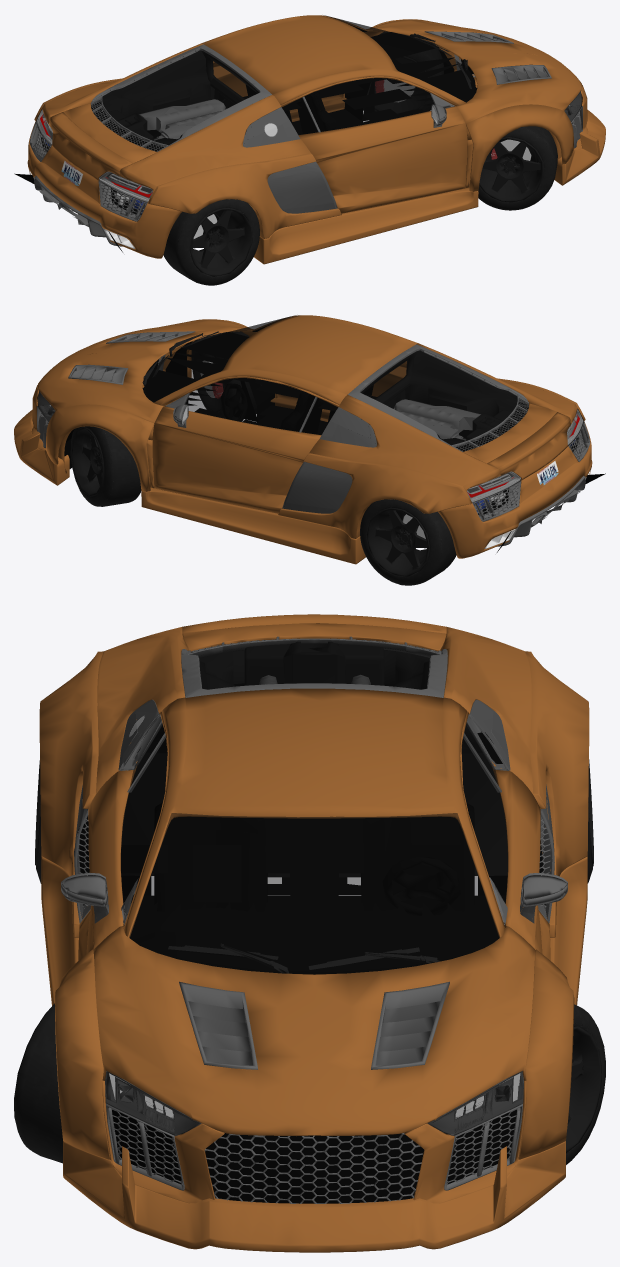
File: veh-audi-r8.glb
The picture shows the model from 3 angles, top to bottom: view 1: azimuth 30°, elevation 25°; view 2: azimuth 150°, elevation 25°; view 3: azimuth 270°, elevation 25°; orthographic projection. The views are drawn at different scales.
Parts seen in each view (by area): view 1: Doors_body_0, Doors.009_body_0, Plane_glass_0, Doors.001_body_0, custom hood_body_0, Doors.016_body_0, Doors.018_body_0, Plane.007_glass_0, Doors.011_body_0, Doors.015_matte black_0, Plane.010_pure black_0, Circle.004_rim_0 (+26 smaller); view 2: Doors_body_0, Doors.009_body_0, Plane_glass_0, Doors.001_body_0, custom hood_body_0, Doors.016_body_0, Doors.018_body_0, Plane.007_glass_0, Doors.011_body_0, Doors.015_matte black_0, Plane.010_pure black_0, Hood.003_body_0 (+26 smaller); view 3: custom hood_body_0, Doors.014_glass_0, Doors.009_body_0, Plane.010_pure black_0, Front Bumper.005_body_0, Doors.016_body_0, Hood.003_body_0, Doors.001_body_0, Cube.018_pure black_0, Plane.009_pure black_0, Doors_body_0, Doors.015_matte black_0 (+27 smaller).
Boxes of the visible parts, left/top/right/bottom form: Doors_body_0: left=213, top=61, right=467, bottom=213; Doors.009_body_0: left=202, top=15, right=465, bottom=105; Plane_glass_0: left=102, top=50, right=259, bottom=144; Doors.001_body_0: left=35, top=43, right=310, bottom=202; custom hood_body_0: left=363, top=19, right=582, bottom=139; Doors.016_body_0: left=34, top=78, right=341, bottom=238; Doors.018_body_0: left=254, top=98, right=478, bottom=264; Plane.007_glass_0: left=282, top=78, right=434, bottom=134; Doors.011_body_0: left=27, top=121, right=181, bottom=258; Doors.015_matte black_0: left=102, top=50, right=258, bottom=144; Plane.010_pure black_0: left=243, top=32, right=475, bottom=122; Circle.004_rim_0: left=367, top=56, right=543, bottom=202; Doors_body_0: left=152, top=361, right=406, bottom=513; Doors.009_body_0: left=154, top=315, right=417, bottom=405; Plane_glass_0: left=360, top=350, right=517, bottom=445; Doors.001_body_0: left=309, top=343, right=583, bottom=502; custom hood_body_0: left=37, top=319, right=255, bottom=440; Doors.016_body_0: left=278, top=378, right=585, bottom=538; Doors.018_body_0: left=141, top=398, right=365, bottom=564; Plane.007_glass_0: left=184, top=378, right=337, bottom=434; Doors.011_body_0: left=438, top=422, right=592, bottom=558; Doors.015_matte black_0: left=361, top=350, right=517, bottom=445; Plane.010_pure black_0: left=144, top=332, right=376, bottom=418; Hood.003_body_0: left=45, top=319, right=248, bottom=491; custom hood_body_0: left=93, top=926, right=535, bottom=1136; Doors.014_glass_0: left=129, top=813, right=499, bottom=971; Doors.009_body_0: left=124, top=688, right=504, bottom=937; Plane.010_pure black_0: left=121, top=816, right=496, bottom=973; Front Bumper.005_body_0: left=63, top=1141, right=565, bottom=1252; Doors.016_body_0: left=39, top=651, right=589, bottom=937; Hood.003_body_0: left=54, top=949, right=574, bottom=1159; Doors.001_body_0: left=80, top=627, right=548, bottom=919; Cube.018_pure black_0: left=154, top=802, right=474, bottom=911; Plane.009_pure black_0: left=205, top=1133, right=424, bottom=1203; Doors_body_0: left=78, top=769, right=550, bottom=960; Doors.015_matte black_0: left=121, top=650, right=507, bottom=877.
Size of the model in its own units: 62.56 by 17.51 by 32.61.
15 materials, 5 textured.
